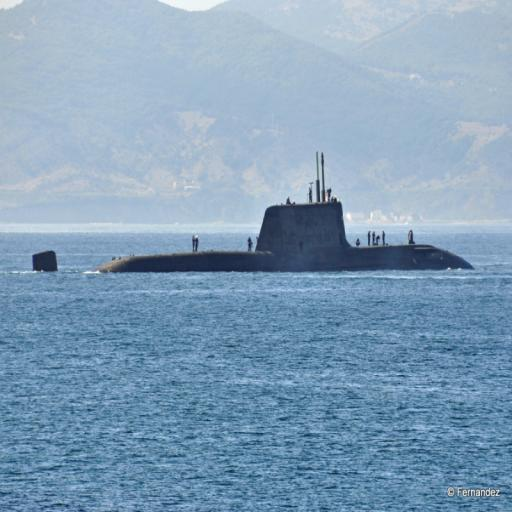submarine: (27, 150, 478, 272)
